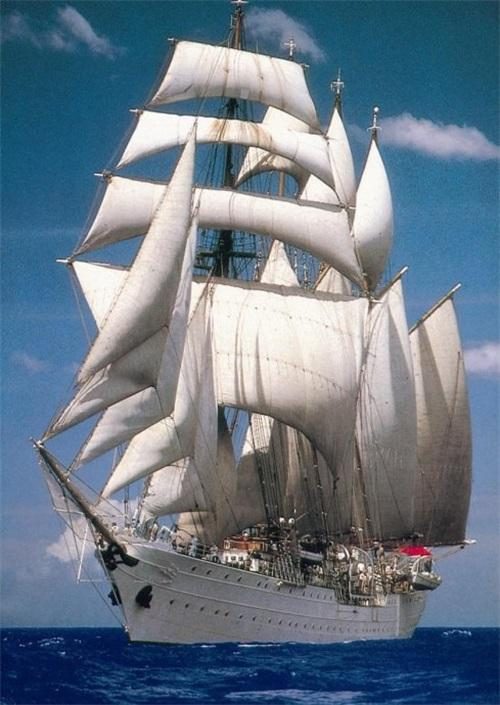Ship: (32, 14, 473, 638)
